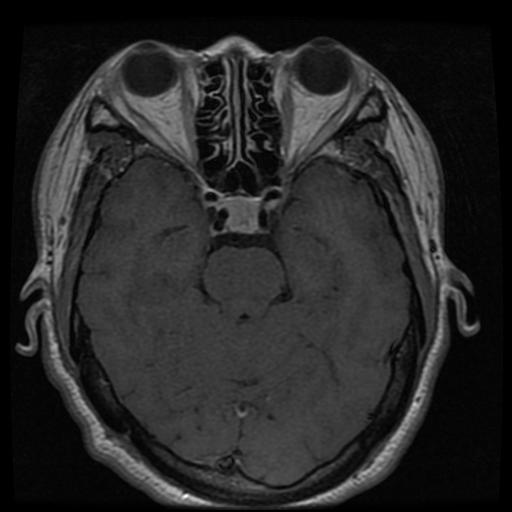Pituirity_tumour: (222, 195, 260, 232)
